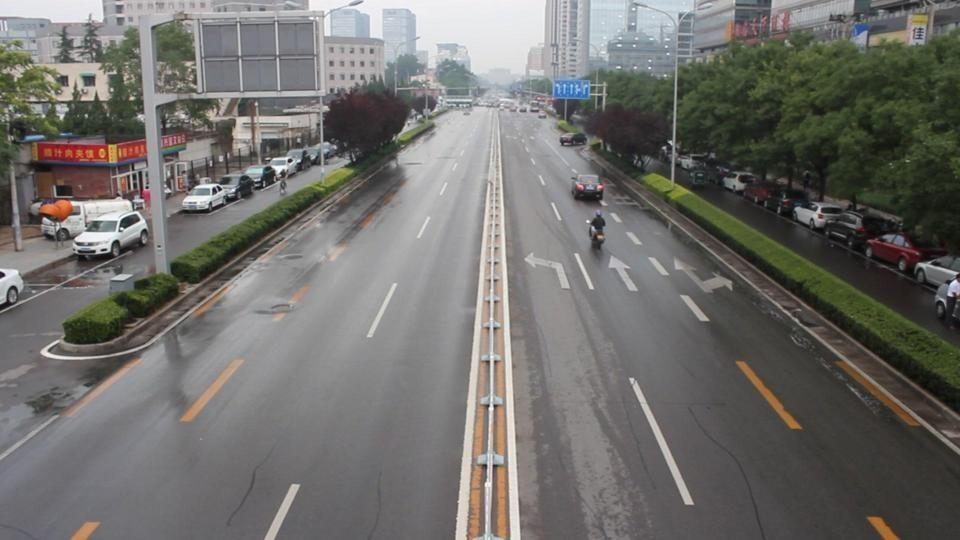car: (863, 231, 950, 278), (73, 211, 150, 259), (824, 208, 904, 254), (914, 255, 960, 291), (190, 176, 247, 205), (793, 203, 846, 232), (934, 274, 960, 329), (182, 184, 228, 213), (28, 196, 74, 222), (768, 188, 808, 217), (0, 267, 25, 312), (216, 173, 255, 201), (572, 173, 606, 200), (243, 165, 277, 189), (721, 173, 755, 194), (743, 179, 771, 203), (268, 156, 297, 179), (305, 144, 336, 165), (286, 147, 309, 172), (561, 132, 585, 146)
